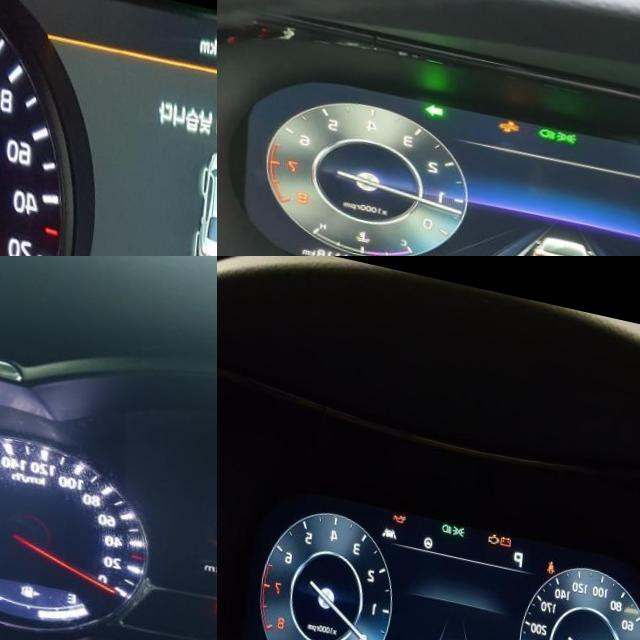LaneCenteringOff: (387, 516, 403, 528)
Low beam: (544, 108, 563, 121), (447, 509, 458, 521)
SideLamp: (563, 110, 586, 125), (458, 511, 472, 523)
